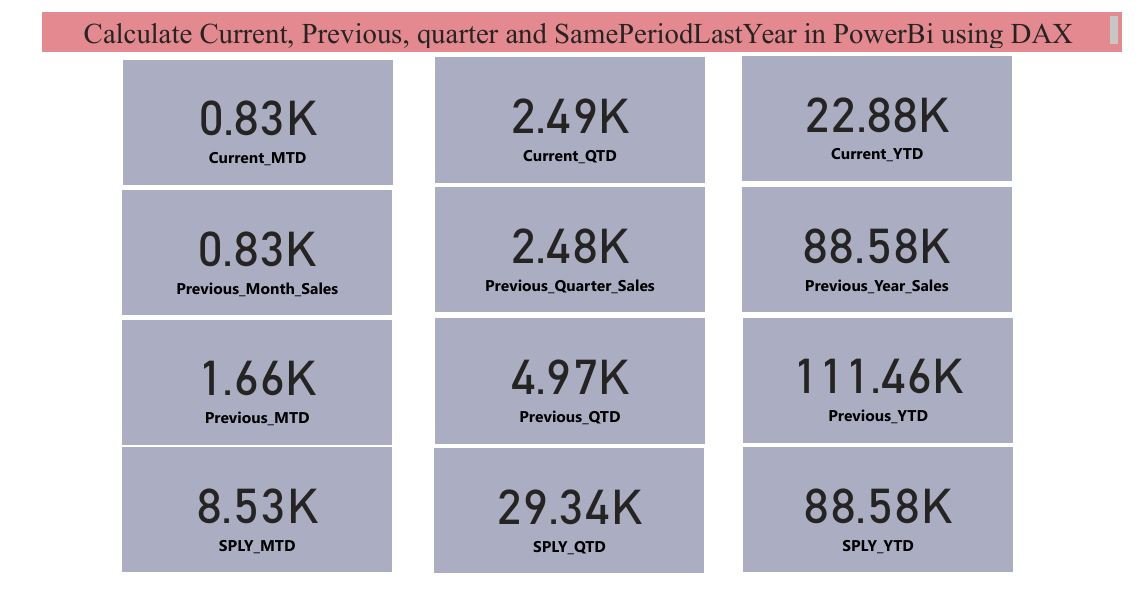

Layout of this report page (visuals, bound fields, positions):
{"tool":"powerbi","page":{"name":"Page 1","canvas":[1280,720],"ordinal":0},"visuals":[{"type":"card","fields":{"Values":["Orders.Current_MTD"]},"box":[125,125,299,138],"z":0},{"type":"card","fields":{"Values":["Orders.Current_QTD"]},"box":[471.7,122.4,299.5,138.2],"z":1000},{"type":"card","fields":{"Values":["Orders.Previous_month"]},"box":[124.5,269.7,299.5,138.2],"z":2000},{"type":"card","fields":{"Values":["Orders.previous_Q_SAles"]},"box":[471.5,266.8,299.5,138.2],"z":3000},{"type":"card","fields":{"Values":["Orders.previous_year"]},"box":[812.8,266.8,299.5,138.2],"z":4000},{"type":"card","fields":{"Values":["Orders.current_YTD"]},"box":[813,121,299.5,138.2],"z":5000},{"type":"card","fields":{"Values":["Orders.previous_ytd"]},"box":[814.2,411.8,299.5,138.2],"z":6000},{"type":"card","fields":{"Values":["Orders.previous_QTD"]},"box":[471.5,412.3,299.5,138.2],"z":7000},{"type":"card","fields":{"Values":["Orders.Previous_MTD"]},"box":[124.5,413.7,299.5,138.2],"z":8000},{"type":"card","fields":{"Values":["Orders.SPLY_YTD"]},"box":[814,556,300,138],"z":9000},{"type":"card","fields":{"Values":["Orders.SPLY_QTD"]},"box":[471,557,300,138],"z":10000},{"type":"card","fields":{"Values":["Orders.SPLY_MTD"]},"box":[124,556,300,138],"z":11000},{"type":"textbox","box":[34.6,72,1200,44],"z":12000}]}

Visuals, with their boxes on the page's 1280x720 design canvas (x1, y1, x2, y2). These are canvas units, not pixel positions in the 1147x593 screenshot, which may show the page scaled, cropped or inside an application window:
card - Orders.Current_MTD: x1=125, y1=125, x2=424, y2=263
card - Orders.Current_QTD: x1=472, y1=122, x2=771, y2=261
card - Orders.Previous_month: x1=124, y1=270, x2=424, y2=408
card - Orders.previous_Q_SAles: x1=472, y1=267, x2=771, y2=405
card - Orders.previous_year: x1=813, y1=267, x2=1112, y2=405
card - Orders.current_YTD: x1=813, y1=121, x2=1112, y2=259
card - Orders.previous_ytd: x1=814, y1=412, x2=1114, y2=550
card - Orders.previous_QTD: x1=472, y1=412, x2=771, y2=550
card - Orders.Previous_MTD: x1=124, y1=414, x2=424, y2=552
card - Orders.SPLY_YTD: x1=814, y1=556, x2=1114, y2=694
card - Orders.SPLY_QTD: x1=471, y1=557, x2=771, y2=695
card - Orders.SPLY_MTD: x1=124, y1=556, x2=424, y2=694
textbox: x1=35, y1=72, x2=1235, y2=116
